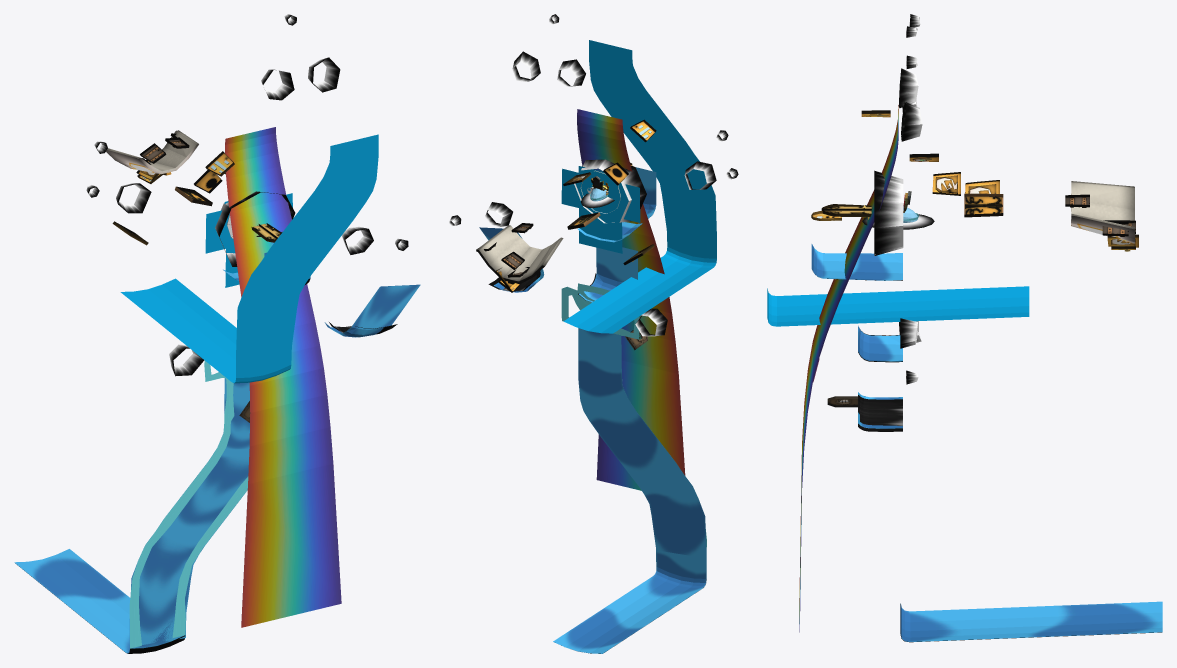
The model's file is Realm_Props.fbx.
3 renders of one model, left to right at view 1: azimuth 30°, elevation 25°; view 2: azimuth 150°, elevation 25°; view 3: azimuth 270°, elevation 25°, orthographic. The views are drawn at different scales.
Visible parts, largest first — view 1: Realm_Rainbow__1, Realm_WaterBase__1, Realm_River1__1, Realm_Falls1b__1, Realm_Light__1, Realm_Realm_riverbed_edge1__1, Realm_Falls3__1, Realm_Waterbase3__1, Realm_Realm_riverbed_edge1__2, Realm_Door_kings_L__2, Realm_Door_kings_L__1; view 2: Realm_WaterBase__1, Realm_River2__1, Realm_Rainbow__1, Realm_Falls1b__1, Realm_Light__1, Realm_Waterbase3__1, Realm_Falls2b__1, Realm_Door_kings_L__2, Realm_Falls4b__1, Realm_Door_kings_L__1, Realm_Realm_riverbed_edge1__2; view 3: Realm_Falls1b__1, Realm_WaterBase__1, Realm_Light__1, Realm_Rainbow__1, Realm_Falls4b__1, Realm_Door_kings_L__1, Realm_Falls3c__1, Realm_Falls2b__1, Realm_Door_square__1, Realm_Door_kings_L__2, Realm_Door_snakey__1.
Part boxes in pixels (x1,y1,x2,y2): Realm_Rainbow__1: (225, 127, 341, 627); Realm_WaterBase__1: (120, 134, 378, 383); Realm_River1__1: (129, 378, 249, 644); Realm_Falls1b__1: (14, 549, 130, 653); Realm_Light__1: (86, 14, 408, 376); Realm_Realm_riverbed_edge1__1: (129, 360, 248, 648); Realm_Falls3__1: (325, 284, 420, 337); Realm_Waterbase3__1: (205, 193, 292, 287); Realm_Realm_riverbed_edge1__2: (137, 364, 248, 645); Realm_Door_kings_L__2: (148, 130, 198, 174); Realm_Door_kings_L__1: (106, 148, 168, 175); Realm_WaterBase__1: (563, 40, 716, 333); Realm_River2__1: (578, 328, 706, 577); Realm_Rainbow__1: (577, 109, 685, 490); Realm_Falls1b__1: (553, 550, 706, 653); Realm_Light__1: (449, 14, 738, 336); Realm_Waterbase3__1: (561, 166, 640, 253); Realm_Falls2b__1: (579, 247, 637, 302); Realm_Door_kings_L__2: (476, 225, 535, 283); Realm_Falls4b__1: (578, 167, 656, 242); Realm_Door_kings_L__1: (510, 237, 563, 284); Realm_Realm_riverbed_edge1__2: (562, 283, 706, 547); Realm_Falls1b__1: (900, 601, 1162, 641); Realm_WaterBase__1: (767, 286, 1029, 326); Realm_Light__1: (874, 14, 922, 384); Realm_Rainbow__1: (799, 105, 898, 632); Realm_Falls4b__1: (811, 244, 902, 280); Realm_Door_kings_L__1: (1071, 181, 1134, 220); Realm_Falls3c__1: (858, 395, 902, 431); Realm_Falls2b__1: (858, 326, 902, 361); Realm_Door_square__1: (964, 193, 1003, 217); Realm_Door_kings_L__2: (1071, 213, 1134, 243); Realm_Door_snakey__1: (932, 172, 960, 195).
Bounding box in the file's own units: 113 × 204 × 107.
107 materials, 100 textured.
